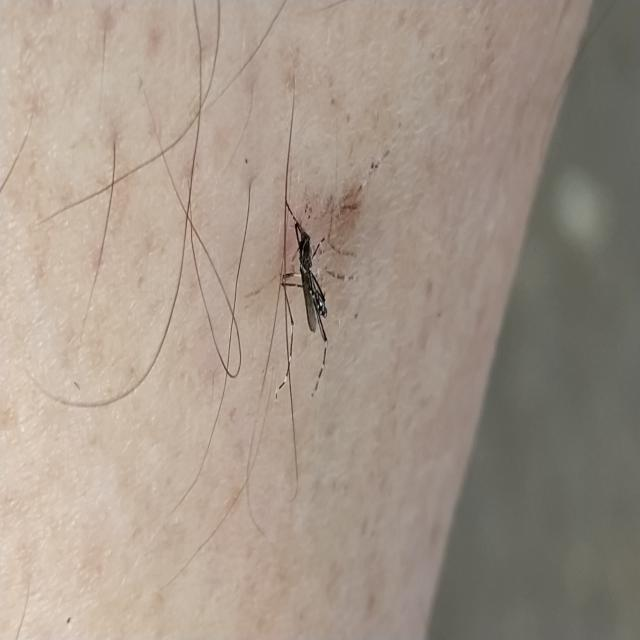albopictus: (263, 198, 338, 412)
